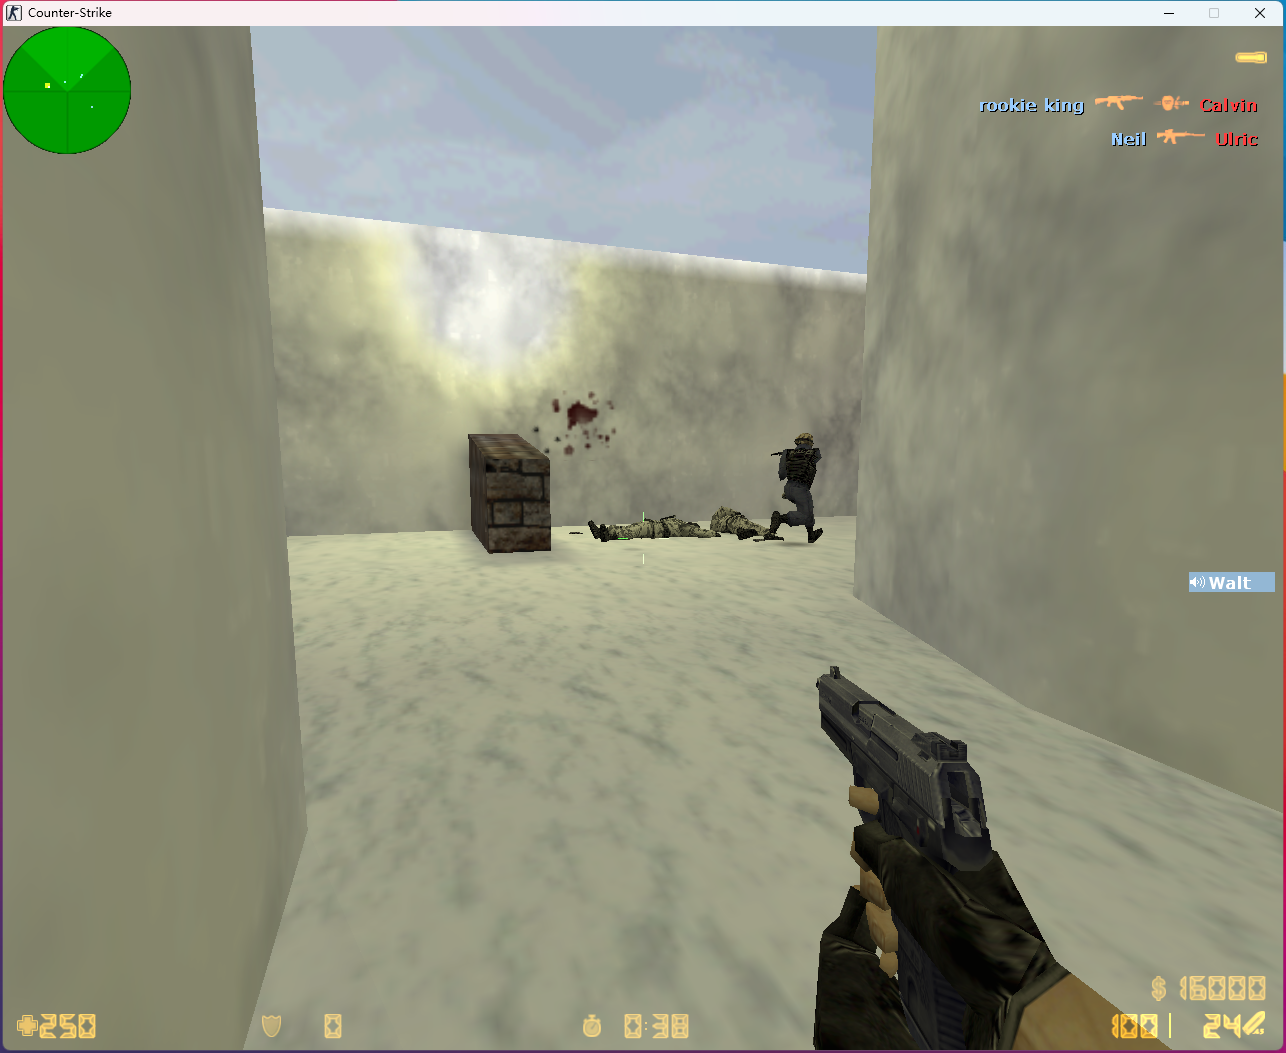C: (765, 434, 826, 543)
dead: (587, 513, 720, 541), (707, 507, 779, 540)
